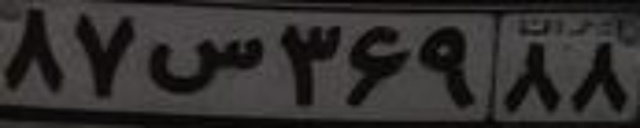3: (278, 24, 340, 106)
6: (345, 25, 411, 107)
7: (73, 11, 137, 98)
8: (1, 6, 66, 94), (569, 43, 629, 113), (502, 43, 561, 112)
9: (417, 25, 476, 107)
sin: (147, 35, 265, 96)
